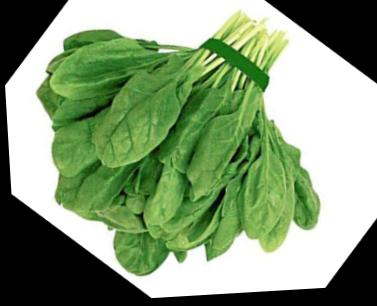organic: (6, 0, 376, 304)
